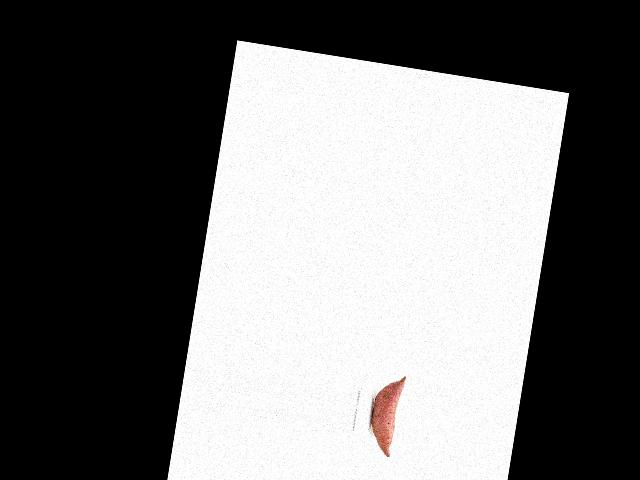sweet_potato: (365, 371, 410, 459)
